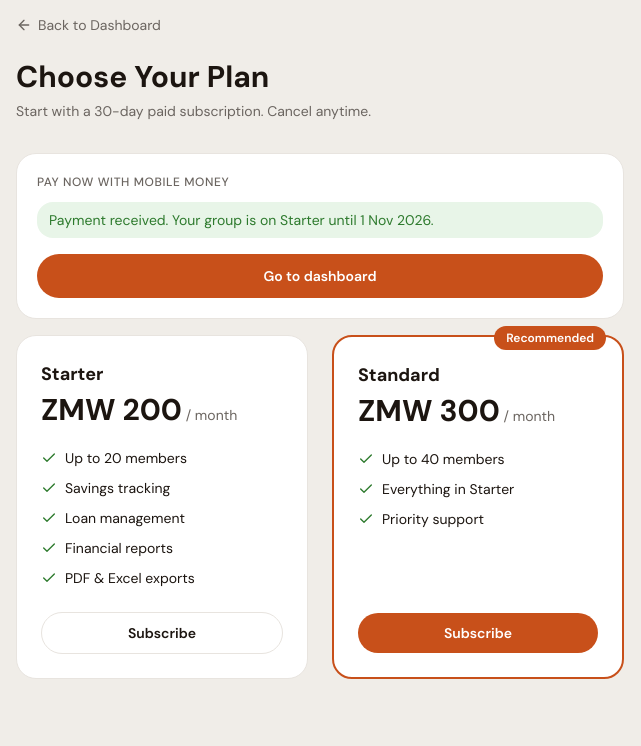
Test case: UpgradePage (U12 guards + history) › shows a success banner for a recent payment while still letting the admin select a plan
The image size is (641, 746).
expect the text "Payment received. Your group is on Starter until 1 Nov 2026." is shown: met, box [37,202,603,238]
expect the heading "Choose Your Plan" is shown: met, box [16,57,269,96]
Click the button "Subscribe" below "Priority support" at point(478, 633), box [358,613,598,653]
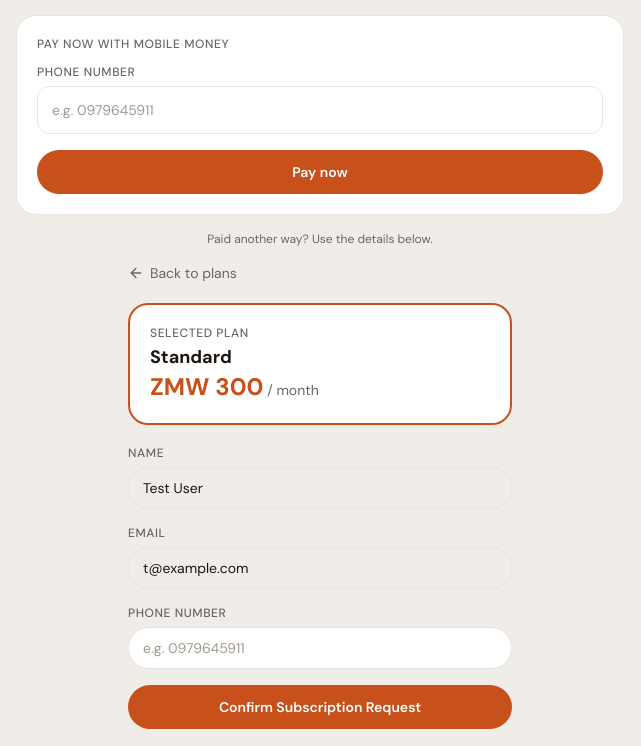
expect the text "Pay now with mobile money" is shown: met, box [37,36,229,52]
expect the button "Pay now" is shown: met, box [37,150,603,194]
